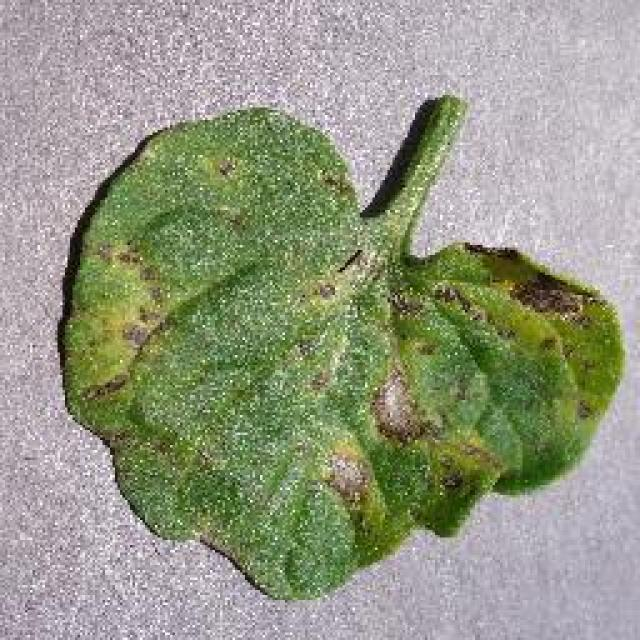Tomato___Septoria_leaf_spot: (62, 95, 620, 595)
